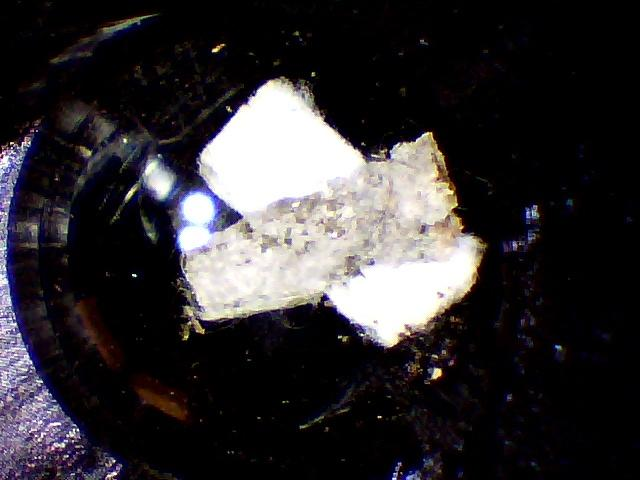megot: (170, 128, 487, 353), (185, 68, 336, 367)
